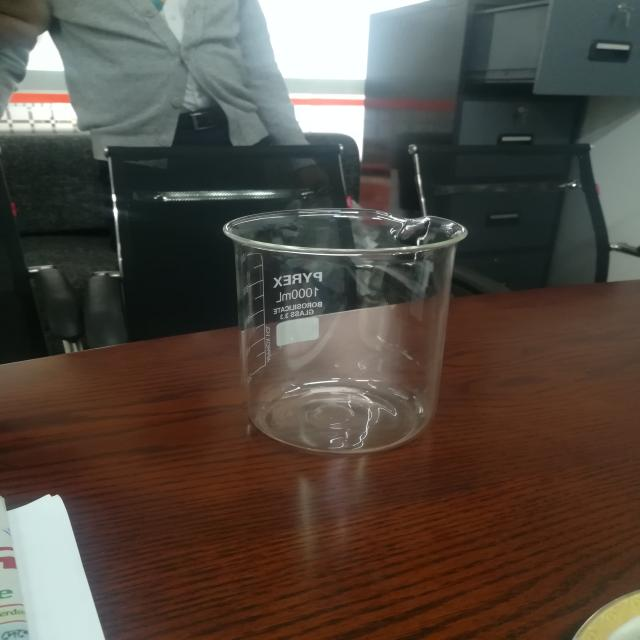Beaker: (194, 171, 495, 479)
